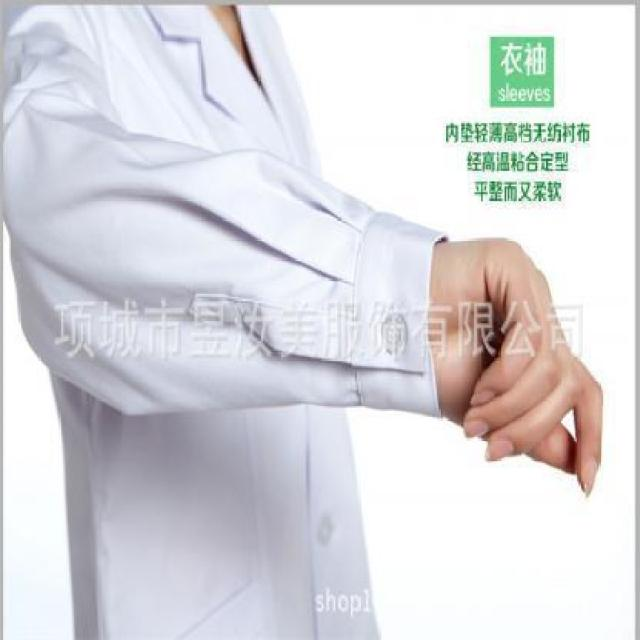hand_noglove: (428, 235, 603, 500)
